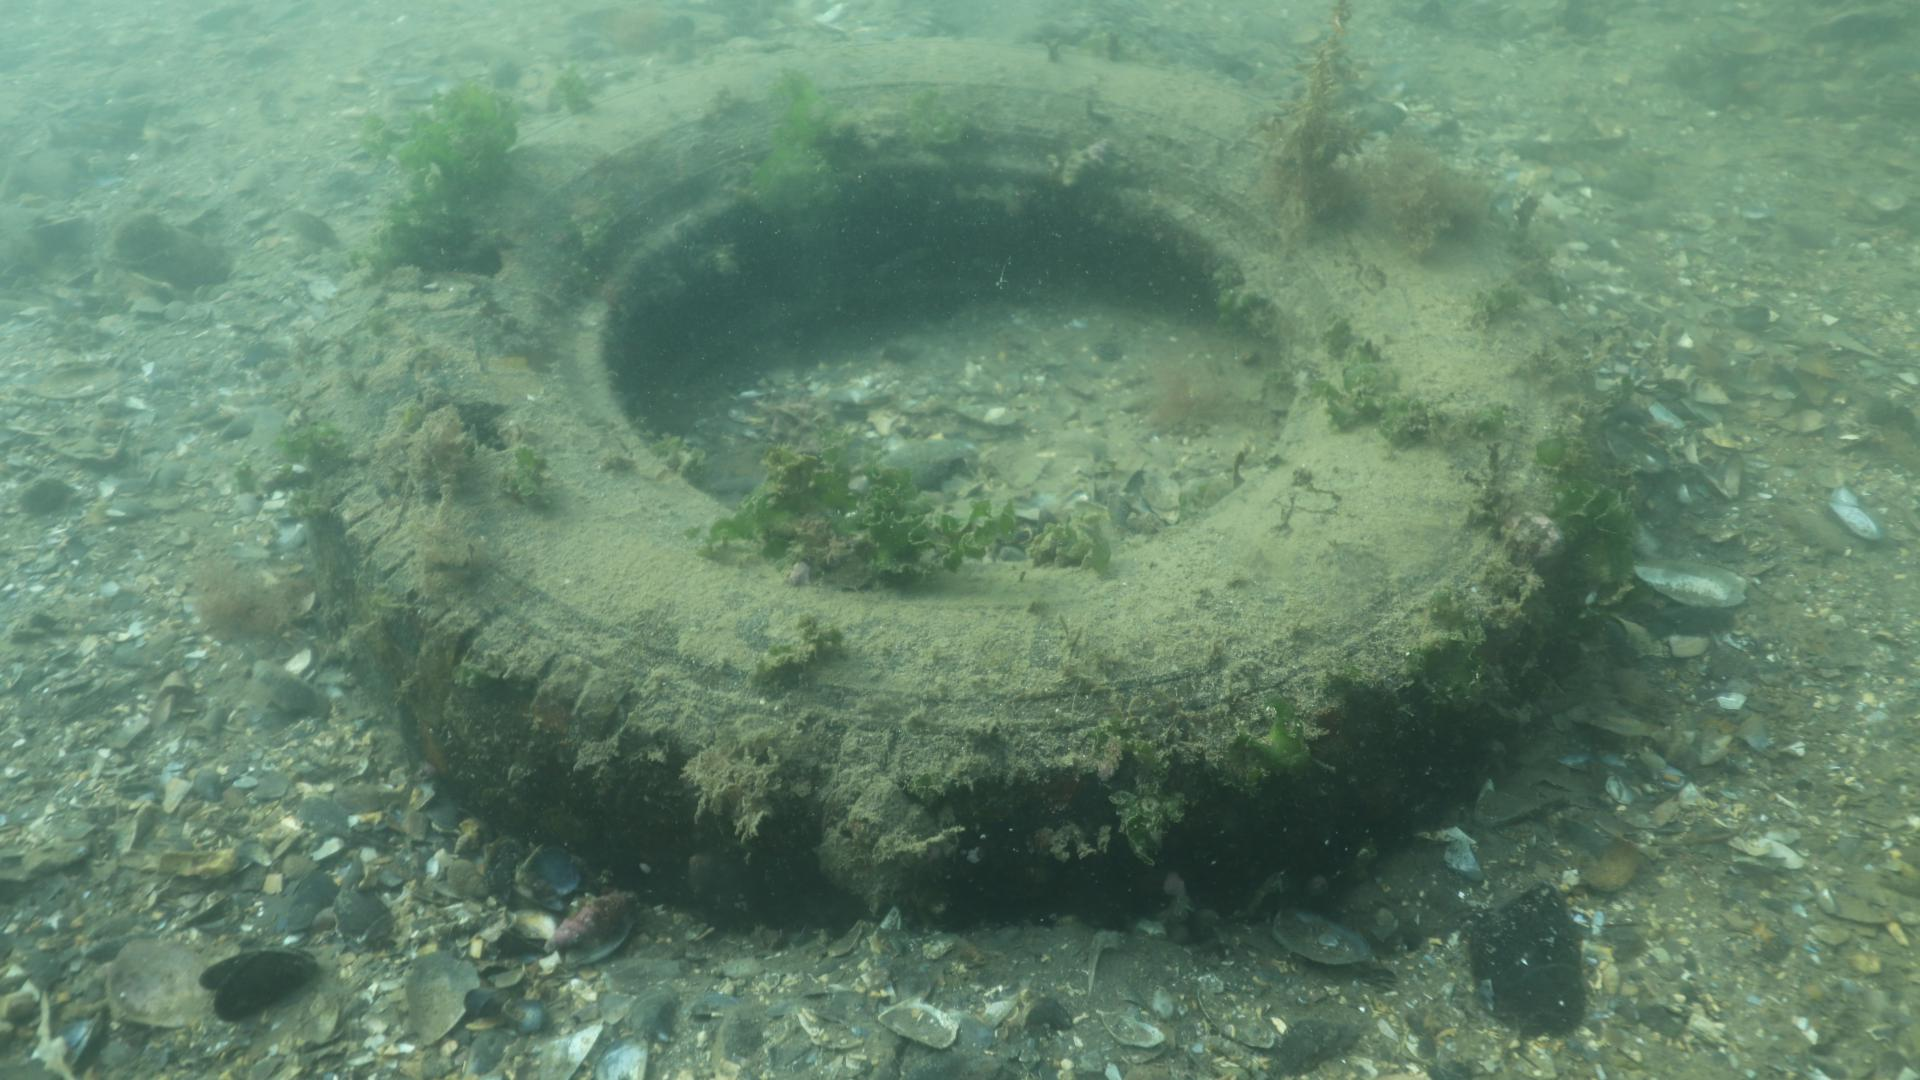tire: (297, 36, 1588, 922)
